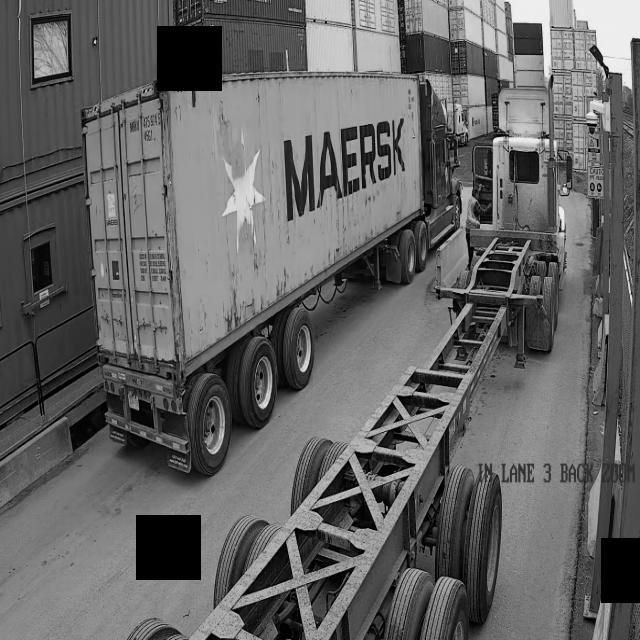container_company_logo: (278, 101, 408, 230)
container_number: (124, 110, 163, 144)
driver: (466, 184, 492, 265)
truck_with_container: (82, 73, 461, 474)
truck_without_container: (127, 77, 572, 640)
